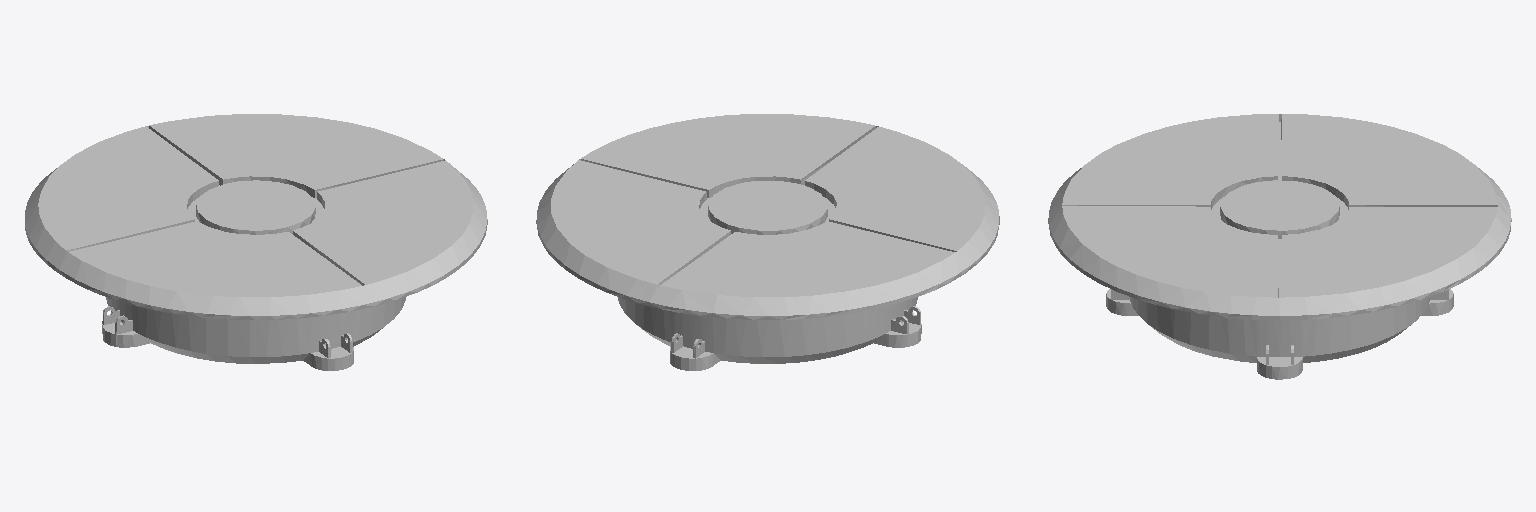
The model's file is button.obj.
3 views of the same model, side by side, from view 1: azimuth 30°, elevation 25°; view 2: azimuth 150°, elevation 25°; view 3: azimuth 270°, elevation 25° (orthographic).
Visible parts, largest first — view 1: Button_Pad_LOWMESH; view 2: Button_Pad_LOWMESH; view 3: Button_Pad_LOWMESH.
Boxes of the visible parts, <box> form: Button_Pad_LOWMESH: <box>25,114,487,370</box>; Button_Pad_LOWMESH: <box>536,114,999,370</box>; Button_Pad_LOWMESH: <box>1048,114,1511,379</box>.
Bounding box in the file's own units: 1.13 × 0.2706 × 1.13.